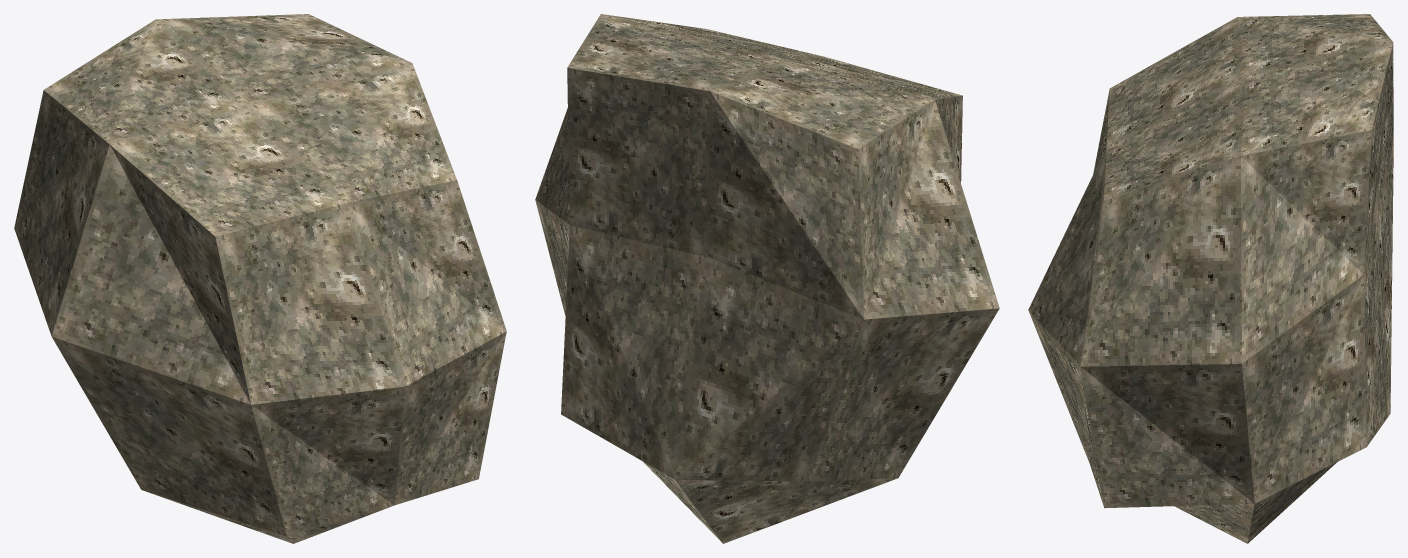
File: asteroid_all_mammoth_01_l3.fbx
3 views of the same model, side by side, from view 1: azimuth 30°, elevation 25°; view 2: azimuth 150°, elevation 25°; view 3: azimuth 270°, elevation 25° (orthographic). The views are drawn at different scales.
Visible parts, largest first — view 1: mesh_node; view 2: mesh_node; view 3: mesh_node.
Boxes of the visible parts, x1,y1,x2,y2 form: mesh_node: (14,14,506,543); mesh_node: (535,14,999,543); mesh_node: (1028,14,1393,543).
Bounding box in the file's own units: 298 × 327 × 229.
